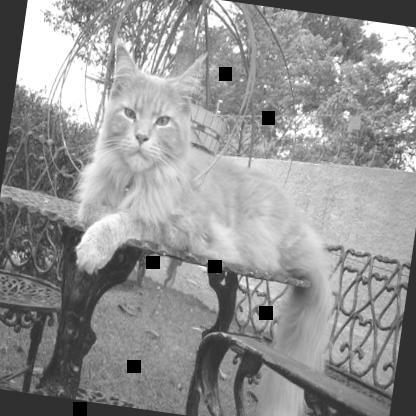cat: (53, 35, 362, 415)
